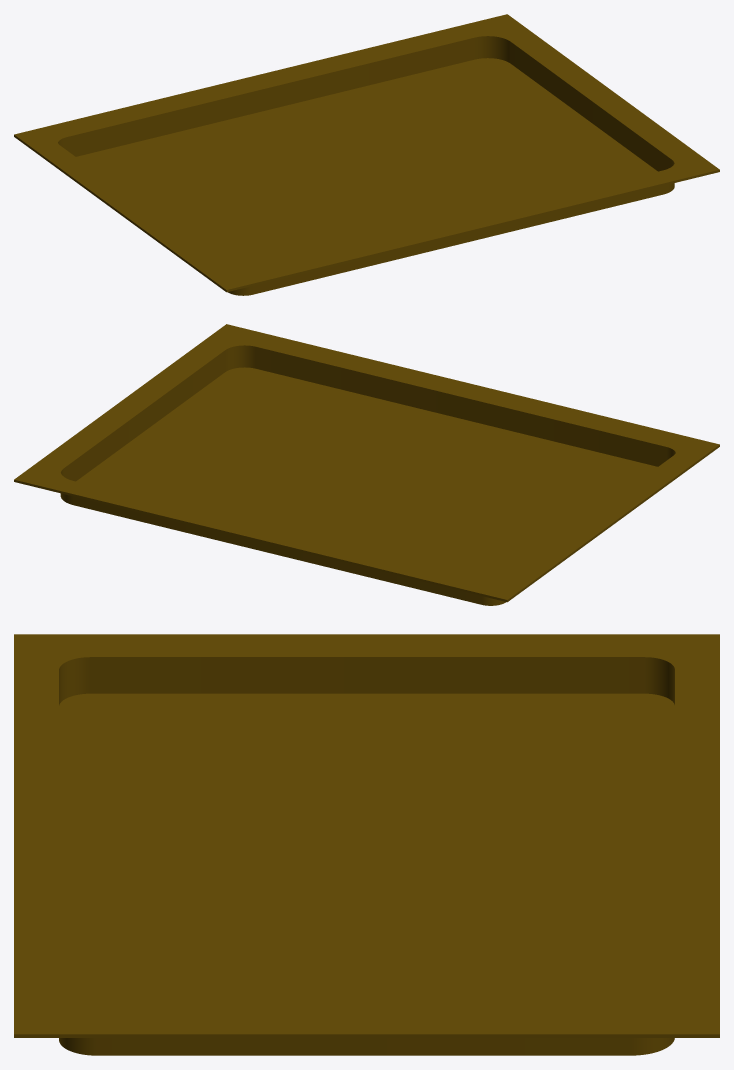
The model's file is original-3.obj.
The picture shows the model from 3 angles, top to bottom: view 1: azimuth 30°, elevation 25°; view 2: azimuth 150°, elevation 25°; view 3: azimuth 270°, elevation 25°; orthographic projection. The views are drawn at different scales.
Visible parts, largest first — view 1: Component_7_1/Component_7/mesh3/mesh3-geometry#mesh3-geometry; view 2: Component_7_1/Component_7/mesh3/mesh3-geometry#mesh3-geometry; view 3: Component_7_1/Component_7/mesh3/mesh3-geometry#mesh3-geometry.
Boxes of the visible parts, x1,y1,x2,y2 form: Component_7_1/Component_7/mesh3/mesh3-geometry#mesh3-geometry: (14, 14, 719, 295); Component_7_1/Component_7/mesh3/mesh3-geometry#mesh3-geometry: (14, 324, 719, 605); Component_7_1/Component_7/mesh3/mesh3-geometry#mesh3-geometry: (14, 634, 719, 1055).
Size of the model in its own units: 1.04 by 0.0491 by 0.7782.
